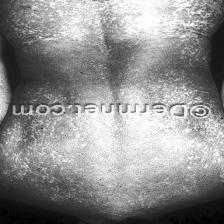Non-Cancerous Skin Condition: (10, 122, 224, 176), (123, 0, 212, 32)
